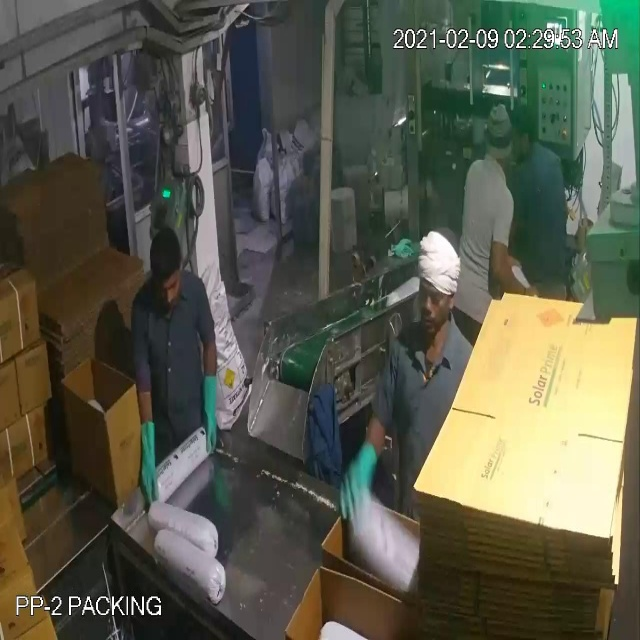Guantes: (335, 431, 382, 535), (132, 400, 170, 517), (191, 362, 226, 469)
Sin_guantes: (487, 229, 546, 307)
